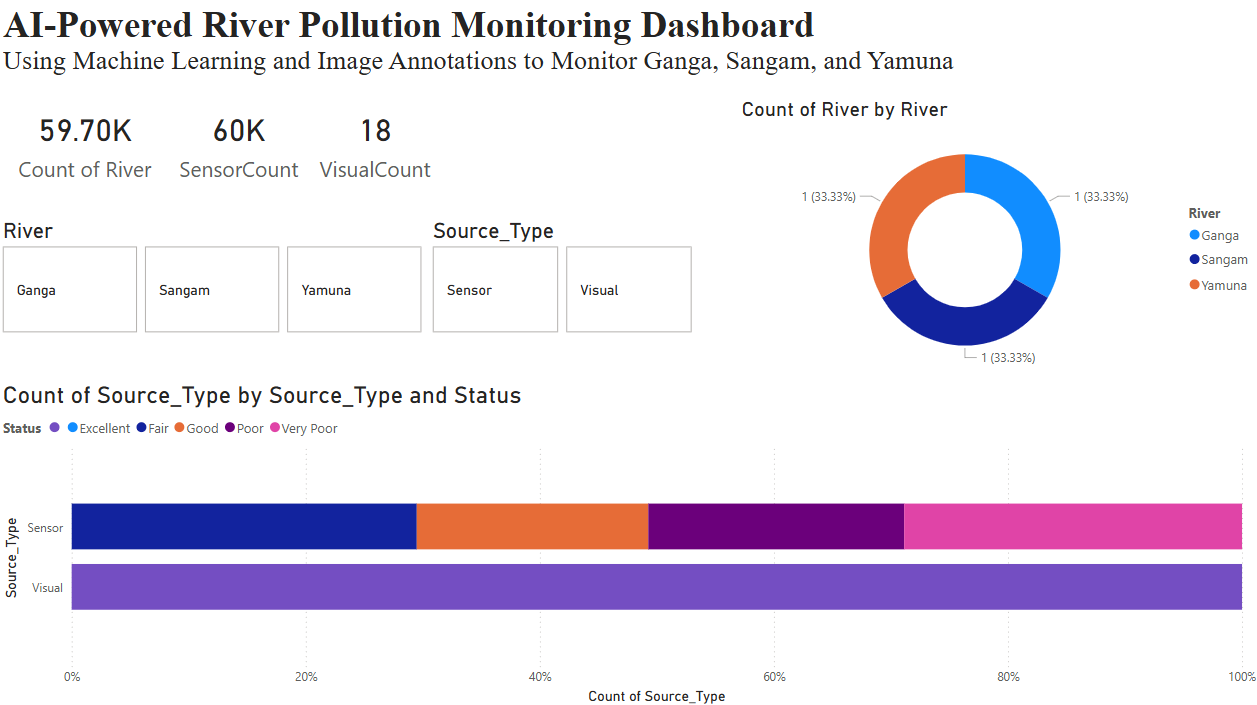

The dashboard page shown, as its layout file describes it:
{"tool":"powerbi","page":{"name":"Page 1","canvas":[1280,720],"ordinal":0},"visuals":[{"type":"hundredPercentStackedBarChart","fields":{"Category":["combined_river_data_for_powerbi.Source_Type"],"Series":["combined_river_data_for_powerbi.Status"],"Y":["CountNonNull(combined_river_data_for_powerbi.Source_Type)"]},"box":[0,387.5,1280,332.5],"z":0},{"type":"textbox","box":[0,0,1003.8,130],"z":1000},{"type":"card","fields":{"Values":["CountNonNull(combined_river_data_for_powerbi.River)"]},"box":[0,100,176.2,91.2],"z":2000},{"type":"card","fields":{"Values":["combined_river_data_for_powerbi.SensorCount"]},"box":[176.2,100,136.2,91.2],"z":3000},{"type":"card","fields":{"Values":["combined_river_data_for_powerbi.VisualCount"]},"box":[312.5,100,138.8,91.2],"z":4000},{"type":"donutChart","fields":{"Category":["combined_river_data_for_powerbi.River"],"Y":["Count(combined_river_data_for_powerbi.River)"]},"box":[747.5,100,532.5,287.5],"z":5000},{"type":"advancedSlicerVisual","fields":{"Values":["combined_river_data_for_powerbi.River"]},"box":[0,222.5,435,121.2],"z":6000},{"type":"advancedSlicerVisual","fields":{"Values":["combined_river_data_for_powerbi.Source_Type"]},"box":[435,222.5,273.8,121.2],"z":7000}]}

Visuals, with their boxes in screenshot pixels (x1, y1, x2, y2), scaled from the page's 1280x720 canvas onto the 1257x705 screenshot:
hundredPercentStackedBarChart - combined_river_data_for_powerbi.Source_Type x combined_river_data_for_powerbi.Status: box(0, 379, 1256, 704)
textbox: box(0, 0, 986, 127)
card - CountNonNull(combined_river_data_for_powerbi.River): box(0, 98, 173, 187)
card - combined_river_data_for_powerbi.SensorCount: box(173, 98, 307, 187)
card - combined_river_data_for_powerbi.VisualCount: box(307, 98, 443, 187)
donutChart - combined_river_data_for_powerbi.River x Count(combined_river_data_for_powerbi.River): box(734, 98, 1256, 379)
advancedSlicerVisual - combined_river_data_for_powerbi.River: box(0, 218, 427, 337)
advancedSlicerVisual - combined_river_data_for_powerbi.Source_Type: box(427, 218, 696, 337)
